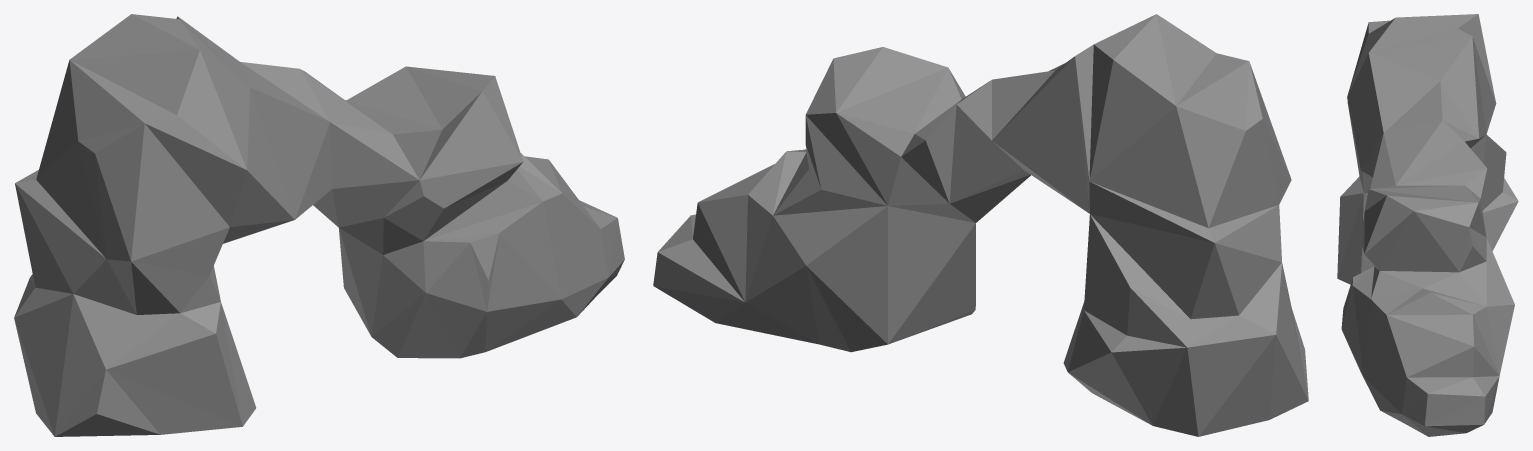
Rendered from Stone_B_09.FBX.
3 views of the same model, side by side, from view 1: azimuth 30°, elevation 25°; view 2: azimuth 150°, elevation 25°; view 3: azimuth 270°, elevation 25° (orthographic). The views are drawn at different scales.
Parts seen in each view (by area): view 1: Stone_B_09; view 2: Stone_B_09; view 3: Stone_B_09.
Boxes of the visible parts, bbox=[...] form: Stone_B_09: bbox=[14, 14, 624, 436]; Stone_B_09: bbox=[653, 14, 1308, 436]; Stone_B_09: bbox=[1337, 14, 1518, 436].
Size of the model in its own units: 17.9 by 10 by 6.33.
